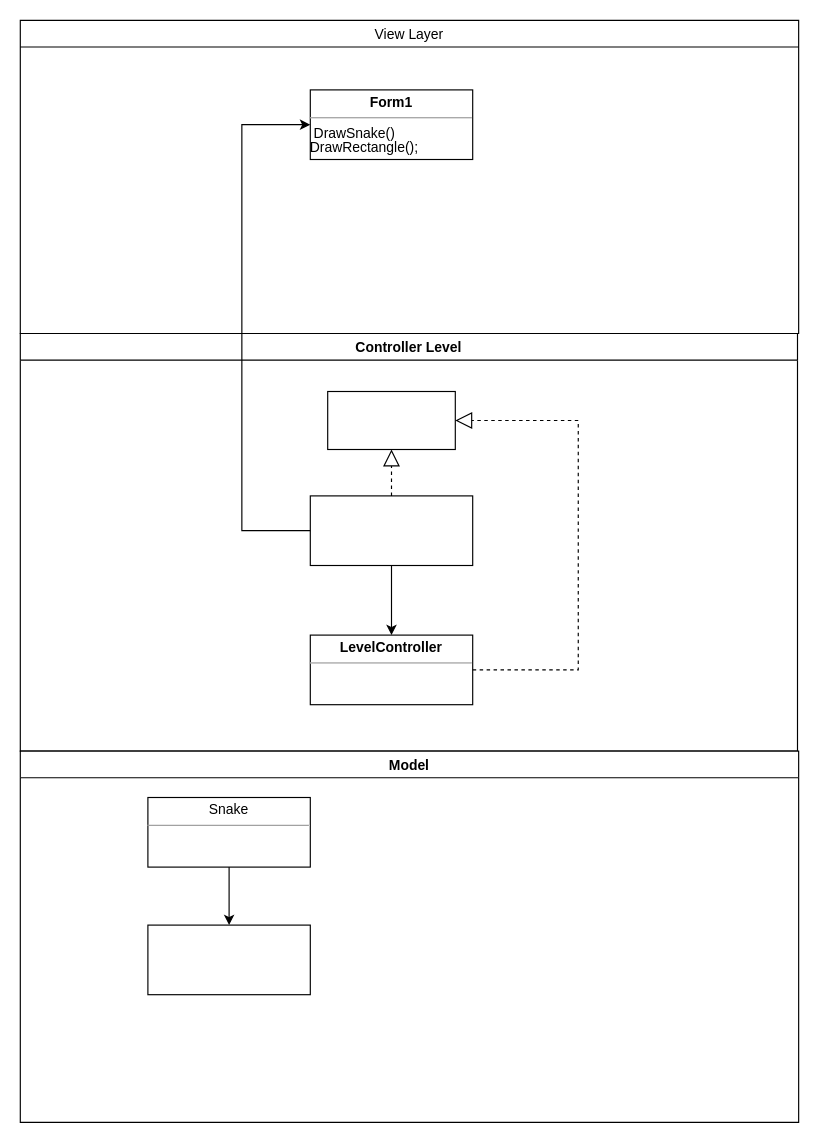
Image size: 819x1143. Some labels were removed from this diagram. The shapes that lost their labels are listed below. From the top down, each one's centre as x and y in pixels, then its label:
At (391,419): "«interface» IController".
At (391,530): "GameController".
At (228,959): "static Direction".
